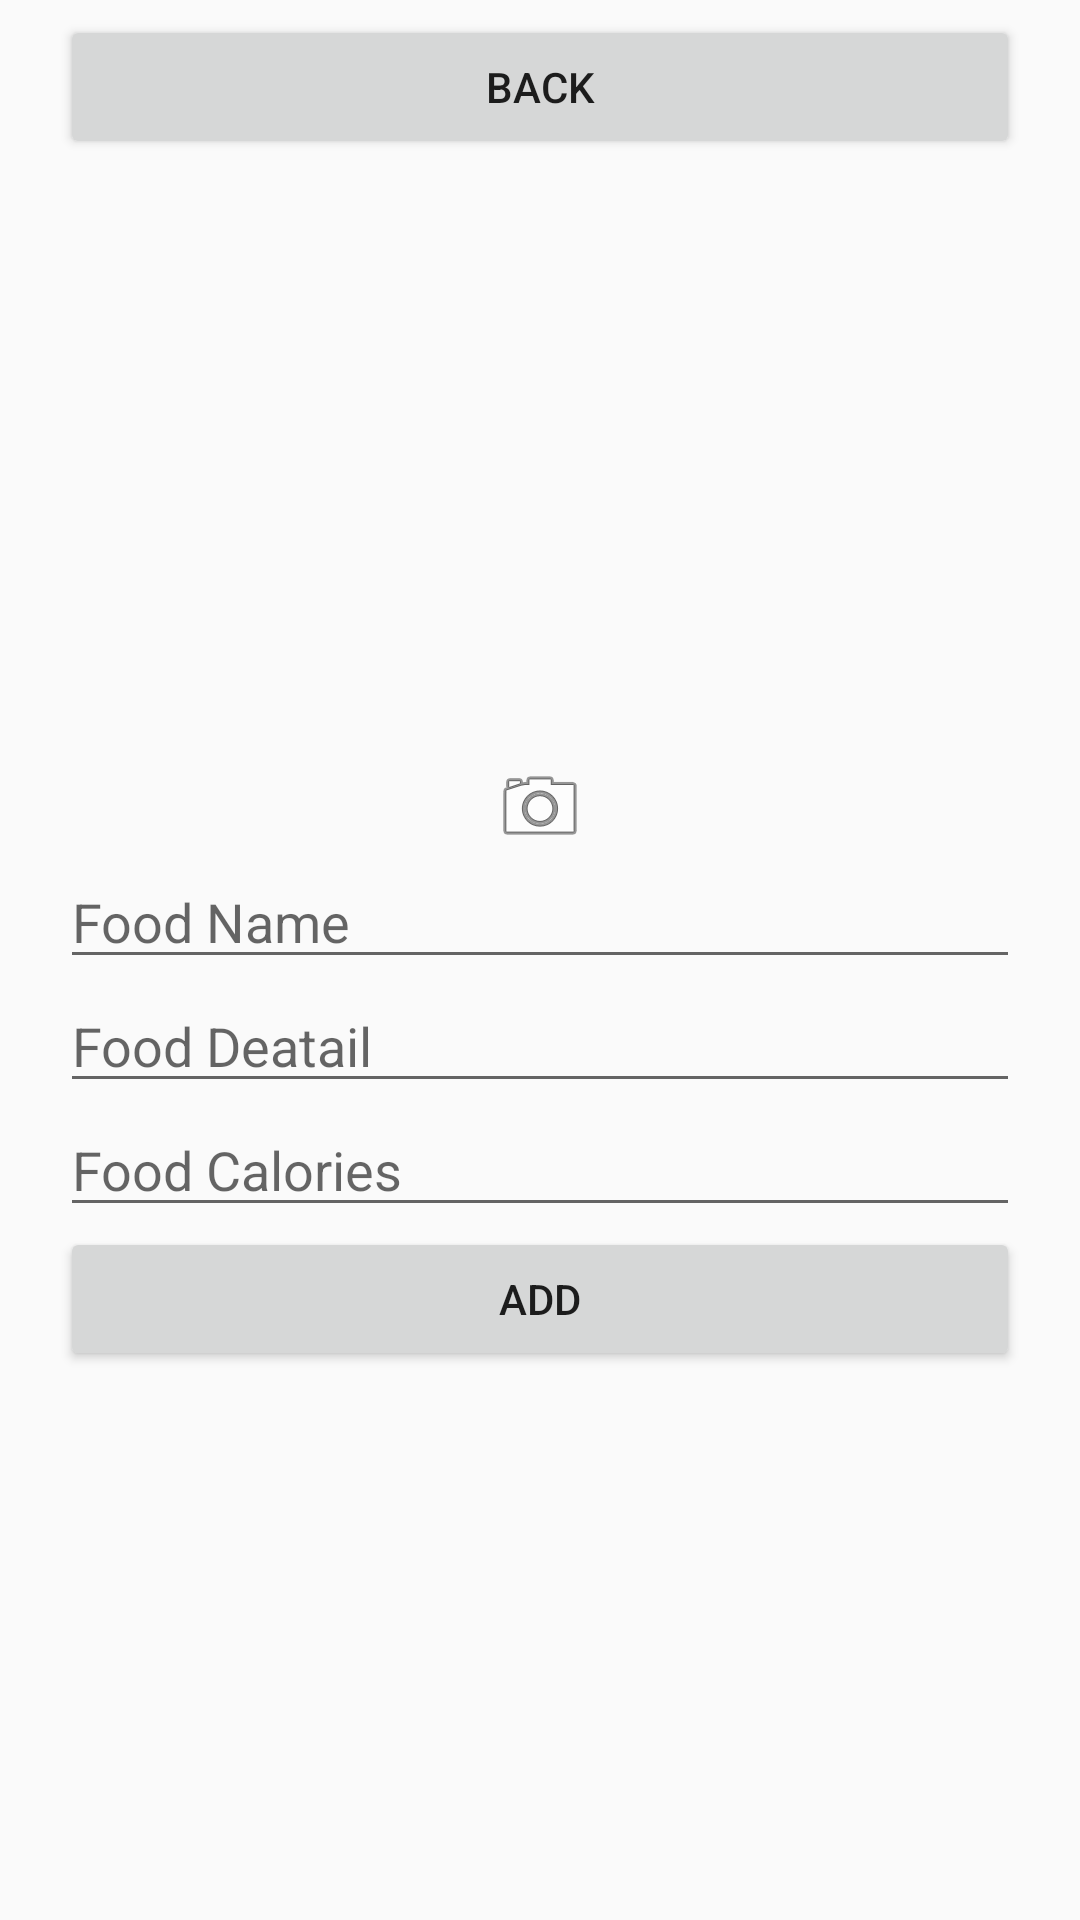

Icon bounding boxes for this 1080*1920 phone screenshot, format (x1, y1, x2, y2):
camera: (503, 776, 577, 835)
